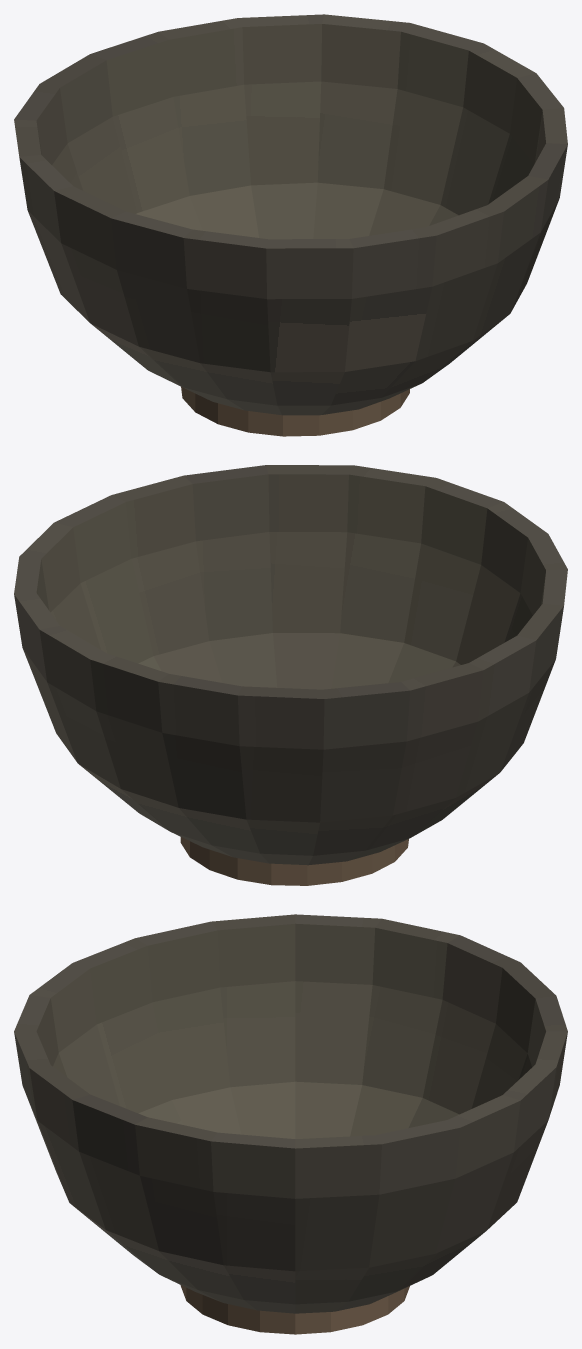
File: antique-karatsu-bowl.glb
3 renders of one model, top to bottom at view 1: azimuth 30°, elevation 25°; view 2: azimuth 150°, elevation 25°; view 3: azimuth 270°, elevation 25°, orthographic.
Parts seen in each view (by area): view 1: antique-karatsu-bowl/vessel-7, antique-karatsu-bowl/vessel-3, antique-karatsu-bowl/vessel-6, antique-karatsu-bowl/vessel-4, antique-karatsu-bowl/vessel-5, antique-karatsu-bowl/vessel-8, antique-karatsu-bowl/vessel-2, antique-karatsu-bowl/ring-foot-1, antique-karatsu-bowl/vessel-1; view 2: antique-karatsu-bowl/vessel-7, antique-karatsu-bowl/vessel-3, antique-karatsu-bowl/vessel-6, antique-karatsu-bowl/vessel-4, antique-karatsu-bowl/vessel-5, antique-karatsu-bowl/vessel-8, antique-karatsu-bowl/vessel-2, antique-karatsu-bowl/ring-foot-1, antique-karatsu-bowl/vessel-1; view 3: antique-karatsu-bowl/vessel-7, antique-karatsu-bowl/vessel-3, antique-karatsu-bowl/vessel-6, antique-karatsu-bowl/vessel-4, antique-karatsu-bowl/vessel-5, antique-karatsu-bowl/vessel-8, antique-karatsu-bowl/vessel-2, antique-karatsu-bowl/ring-foot-1, antique-karatsu-bowl/vessel-1.
Boxes of the visible parts, left/top/right/bottom form: antique-karatsu-bowl/vessel-7: left=52, top=81, right=534, bottom=215; antique-karatsu-bowl/vessel-3: left=28, top=199, right=559, bottom=372; antique-karatsu-bowl/vessel-6: left=36, top=24, right=545, bottom=164; antique-karatsu-bowl/vessel-4: left=19, top=144, right=567, bottom=299; antique-karatsu-bowl/vessel-5: left=14, top=14, right=567, bottom=248; antique-karatsu-bowl/vessel-8: left=136, top=182, right=458, bottom=239; antique-karatsu-bowl/vessel-2: left=91, top=315, right=508, bottom=405; antique-karatsu-bowl/ring-foot-1: left=181, top=387, right=409, bottom=436; antique-karatsu-bowl/vessel-1: left=156, top=374, right=421, bottom=415; antique-karatsu-bowl/vessel-7: left=50, top=532, right=532, bottom=664; antique-karatsu-bowl/vessel-3: left=23, top=649, right=555, bottom=822; antique-karatsu-bowl/vessel-6: left=36, top=474, right=545, bottom=615; antique-karatsu-bowl/vessel-4: left=14, top=594, right=563, bottom=749; antique-karatsu-bowl/vessel-5: left=14, top=465, right=567, bottom=698; antique-karatsu-bowl/vessel-8: left=138, top=633, right=460, bottom=689; antique-karatsu-bowl/vessel-2: left=79, top=764, right=499, bottom=855; antique-karatsu-bowl/ring-foot-1: left=180, top=837, right=408, bottom=885; antique-karatsu-bowl/vessel-1: left=171, top=832, right=408, bottom=865; antique-karatsu-bowl/vessel-7: left=53, top=981, right=531, bottom=1114; antique-karatsu-bowl/vessel-3: left=23, top=1087, right=548, bottom=1271; antique-karatsu-bowl/vessel-6: left=36, top=923, right=545, bottom=1067; antique-karatsu-bowl/vessel-4: left=14, top=1032, right=567, bottom=1198; antique-karatsu-bowl/vessel-5: left=14, top=914, right=567, bottom=1148; antique-karatsu-bowl/vessel-8: left=138, top=1081, right=459, bottom=1138; antique-karatsu-bowl/vessel-2: left=71, top=1204, right=485, bottom=1304; antique-karatsu-bowl/ring-foot-1: left=180, top=1285, right=409, bottom=1334; antique-karatsu-bowl/vessel-1: left=161, top=1275, right=427, bottom=1313.
Bounding box in the file's own units: 0.5 × 0.2536 × 0.5.
3 materials, 3 textured.
